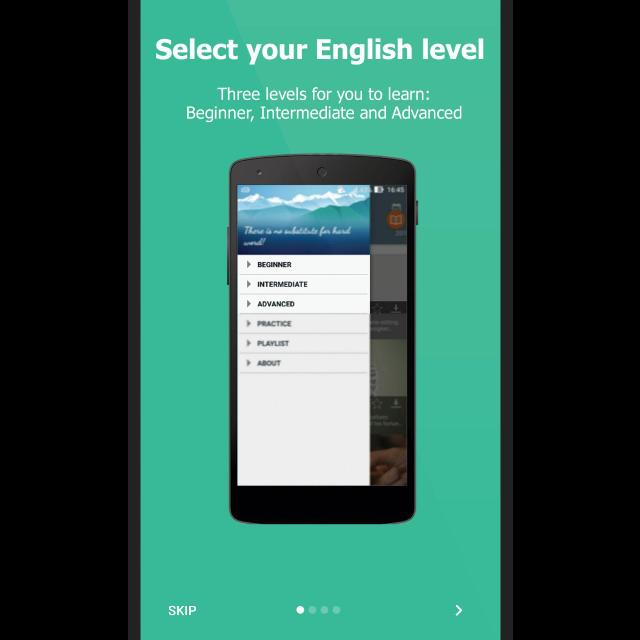icon: (454, 604, 462, 616)
image: (227, 153, 418, 524)
pageindicator: (296, 606, 340, 614)
text: (186, 87, 462, 123), (155, 38, 483, 66), (168, 606, 196, 616)
